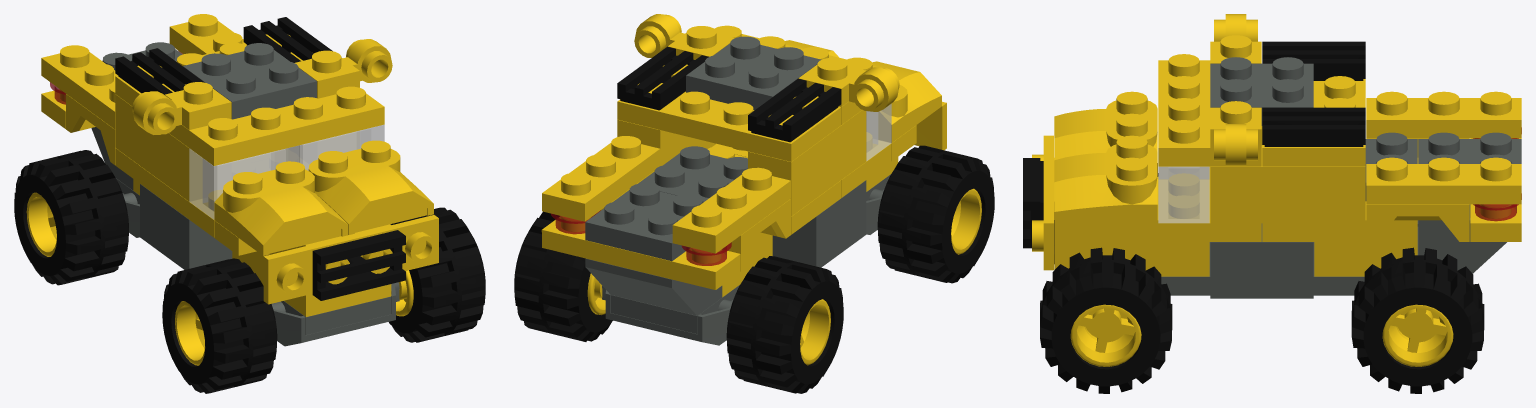
Rendered from lego_truck.dae.
The picture shows the model from 3 angles, left to right: view 1: azimuth 30°, elevation 25°; view 2: azimuth 150°, elevation 25°; view 3: azimuth 270°, elevation 25°; orthographic projection. The views are drawn at different scales.
Visible parts, largest first — view 1: Part-87697 Tire-RR, Part-87697 Tire-FR, Part-3020.002, Part-41855.001, Part-87697 Tire-FL, Part-41855, Part-3022.001, Part-2436, Part-2412.002, Part-3622.001, Part-3001, Part-3623.001 (+22 smaller); view 2: Part-87697 Tire-FR, Part-87697 Tire-RR, Part-87697 Tire-RL, Part-3020.003, Part-3022.001, Part-3022.002, Part-3623.001, Part-3623, Part-3710.001, Part-3622.001, Part-3001, Part-3660 (+23 smaller); view 3: Part-87697 Tire-RL, Part-87697 Tire-FL, Part-3622, Part-41855, Part-3623, Part-3623.001, Part-3020.002, Part-3001, Part-3022.001, Part-41855.001, Part-3002, Part-3020 (+20 smaller).
Part boxes in pixels (bbox=[...]): Part-87697 Tire-RR: bbox=[14, 150, 128, 285]; Part-87697 Tire-FR: bbox=[162, 258, 277, 393]; Part-3020.002: bbox=[169, 86, 384, 165]; Part-41855.001: bbox=[214, 161, 348, 255]; Part-87697 Tire-FL: bbox=[389, 207, 485, 342]; Part-41855: bbox=[308, 140, 433, 234]; Part-3022.001: bbox=[183, 43, 316, 119]; Part-2436: bbox=[263, 215, 438, 304]; Part-2412.002: bbox=[312, 230, 405, 300]; Part-3622.001: bbox=[115, 94, 202, 201]; Part-3001: bbox=[140, 184, 232, 269]; Part-3623.001: bbox=[41, 45, 117, 129]; Part-87697 Tire-FR: bbox=[877, 145, 994, 283]; Part-87697 Tire-RR: bbox=[726, 256, 843, 393]; Part-87697 Tire-RL: bbox=[514, 211, 612, 341]; Part-3020.003: bbox=[617, 64, 841, 161]; Part-3022.001: bbox=[686, 36, 821, 110]; Part-3022.002: bbox=[585, 183, 703, 261]; Part-3623.001: bbox=[672, 167, 790, 253]; Part-3623: bbox=[542, 136, 660, 221]; Part-3710.001: bbox=[541, 216, 740, 289]; Part-3622.001: bbox=[748, 110, 866, 216]; Part-3001: bbox=[772, 180, 866, 267]; Part-3660: bbox=[585, 258, 722, 315]; Part-87697 Tire-RL: bbox=[1351, 247, 1484, 393]; Part-87697 Tire-FL: bbox=[1040, 247, 1172, 393]; Part-3622: bbox=[1210, 145, 1365, 223]; Part-41855: bbox=[1054, 135, 1157, 223]; Part-3623: bbox=[1366, 157, 1521, 204]; Part-3623.001: bbox=[1366, 91, 1521, 138]; Part-3020.002: bbox=[1158, 54, 1261, 166]; Part-3001: bbox=[1210, 223, 1313, 298]; Part-3022.001: bbox=[1210, 57, 1313, 125]; Part-41855.001: bbox=[1054, 91, 1157, 160]; Part-3002: bbox=[1054, 177, 1209, 276]; Part-3020: bbox=[1158, 167, 1261, 241].
Size of the model in its own units: 0.0508 by 0.0768 by 0.0435.
